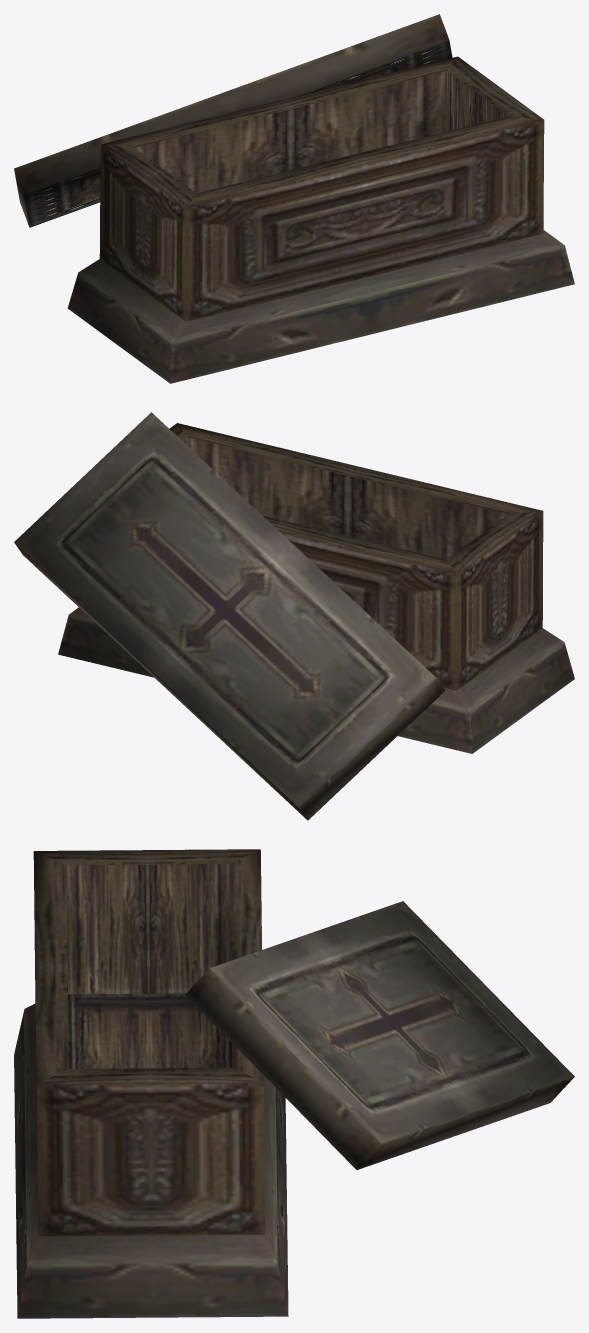
Rendered from S_Build_Muxue044.FBX.
3 renders of one model, top to bottom at view 1: azimuth 30°, elevation 25°; view 2: azimuth 150°, elevation 25°; view 3: azimuth 270°, elevation 25°, orthographic. The views are drawn at different scales.
Parts seen in each view (by area): view 1: S_Build_Muxue044; view 2: S_Build_Muxue044; view 3: S_Build_Muxue044.
Part boxes in pixels (x1,y1,x2,y2): S_Build_Muxue044: (14, 14, 574, 383); S_Build_Muxue044: (14, 412, 574, 820); S_Build_Muxue044: (14, 849, 574, 1318).
Size of the model in its own units: 403 by 347 by 217.
